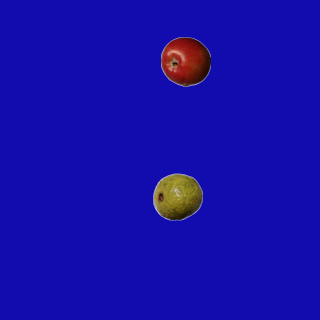Apple Braeburn: (160, 36, 210, 86)
Guava: (152, 171, 202, 221)
